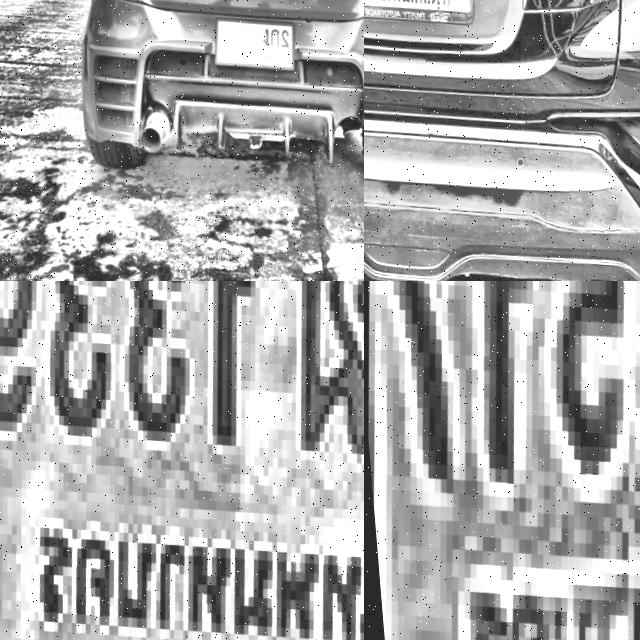license-plate: (0, 281, 364, 640), (364, 281, 640, 640), (203, 14, 293, 74), (364, 0, 474, 30)
